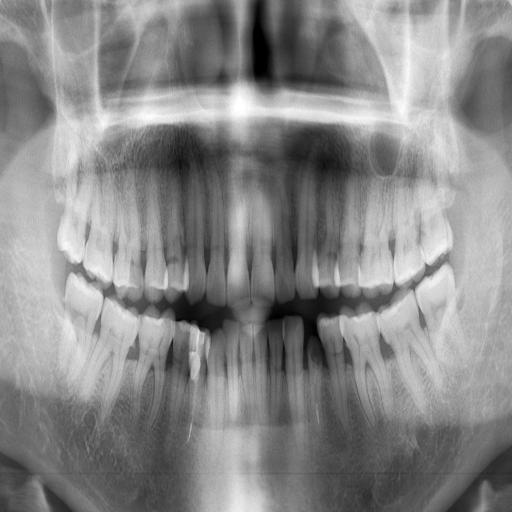Wisdom teeth: (416, 266, 461, 362), (65, 273, 102, 352), (58, 179, 91, 262), (421, 208, 451, 265)
